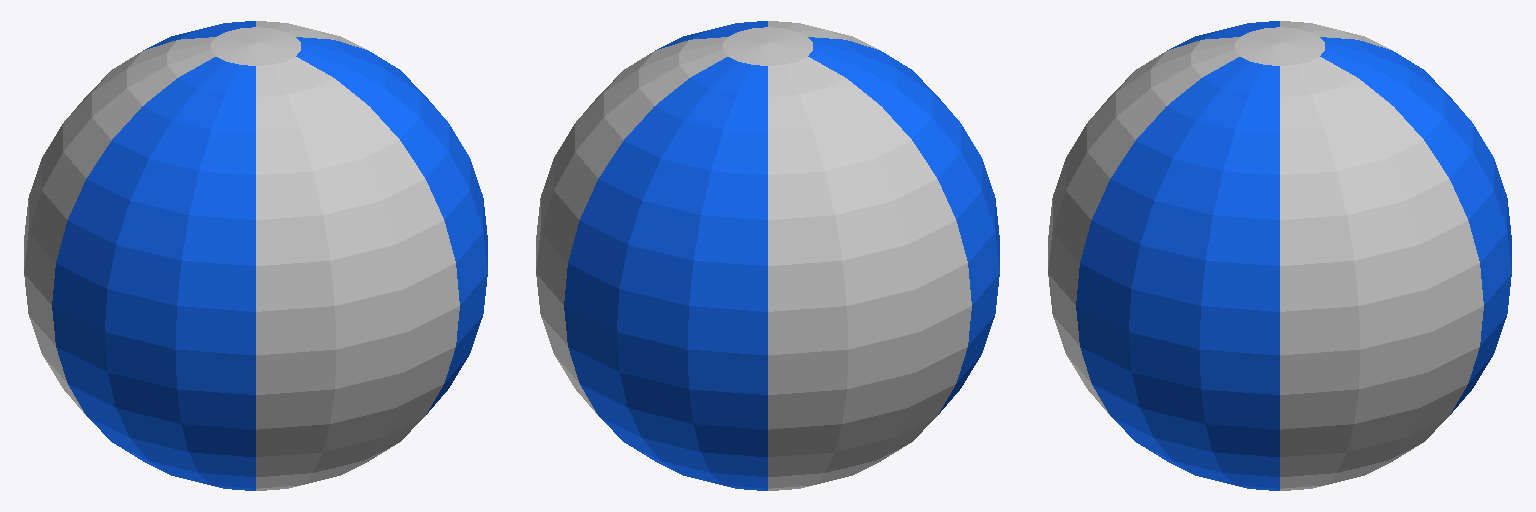
File: ball_teamBlue.obj
3 views of the same model, side by side, from view 1: azimuth 30°, elevation 25°; view 2: azimuth 150°, elevation 25°; view 3: azimuth 270°, elevation 25° (orthographic).
Visible parts, largest first — view 1: ball_teamBlue_Sphere.008; view 2: ball_teamBlue_Sphere.008; view 3: ball_teamBlue_Sphere.008.
Part boxes in pixels (bbox=[...]): ball_teamBlue_Sphere.008: bbox=[24, 21, 487, 490]; ball_teamBlue_Sphere.008: bbox=[536, 21, 999, 490]; ball_teamBlue_Sphere.008: bbox=[1048, 21, 1511, 490].
Bounding box in the file's own units: 2 × 2 × 1.97.